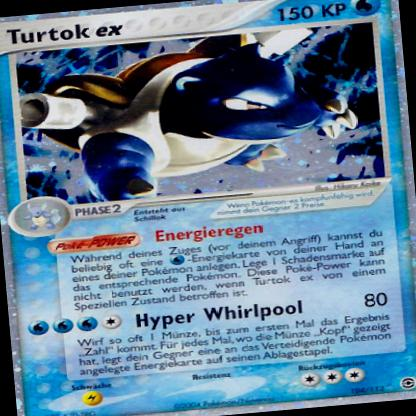Blastoise: (20, 29, 350, 209)
